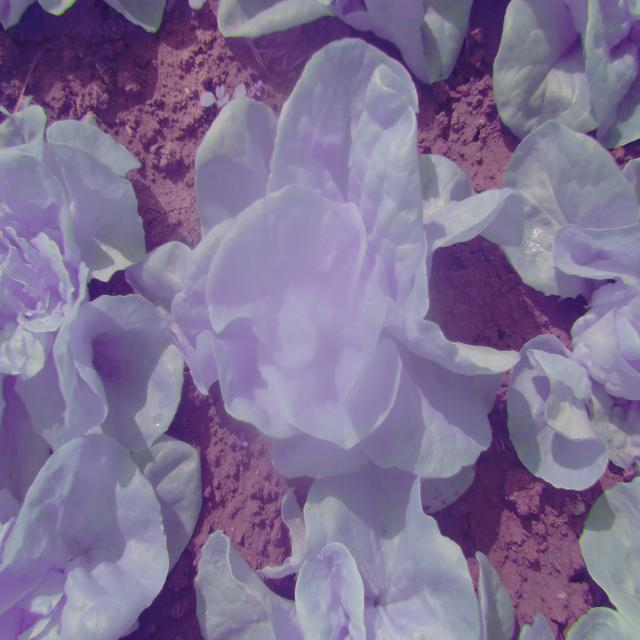vege: (134, 38, 503, 514)
